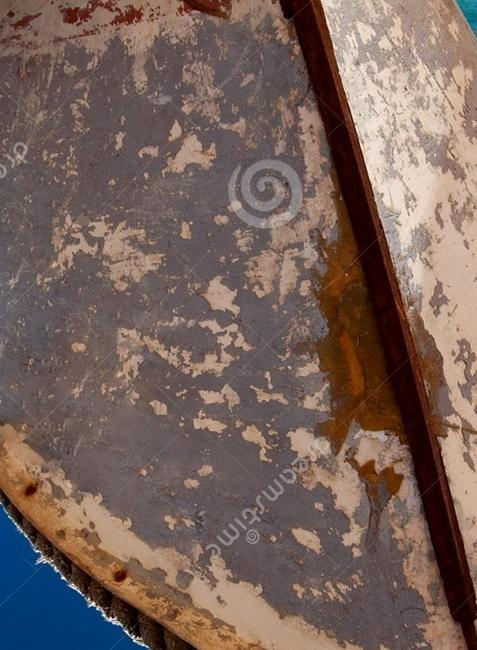rust: (303, 174, 456, 461)
